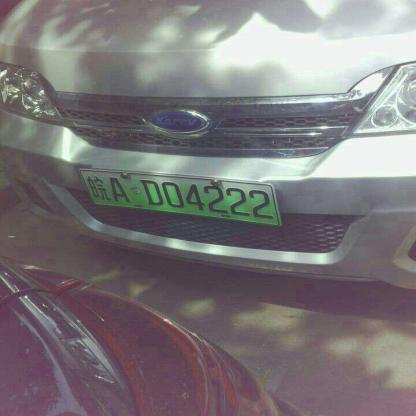lp: (77, 170, 281, 224)
